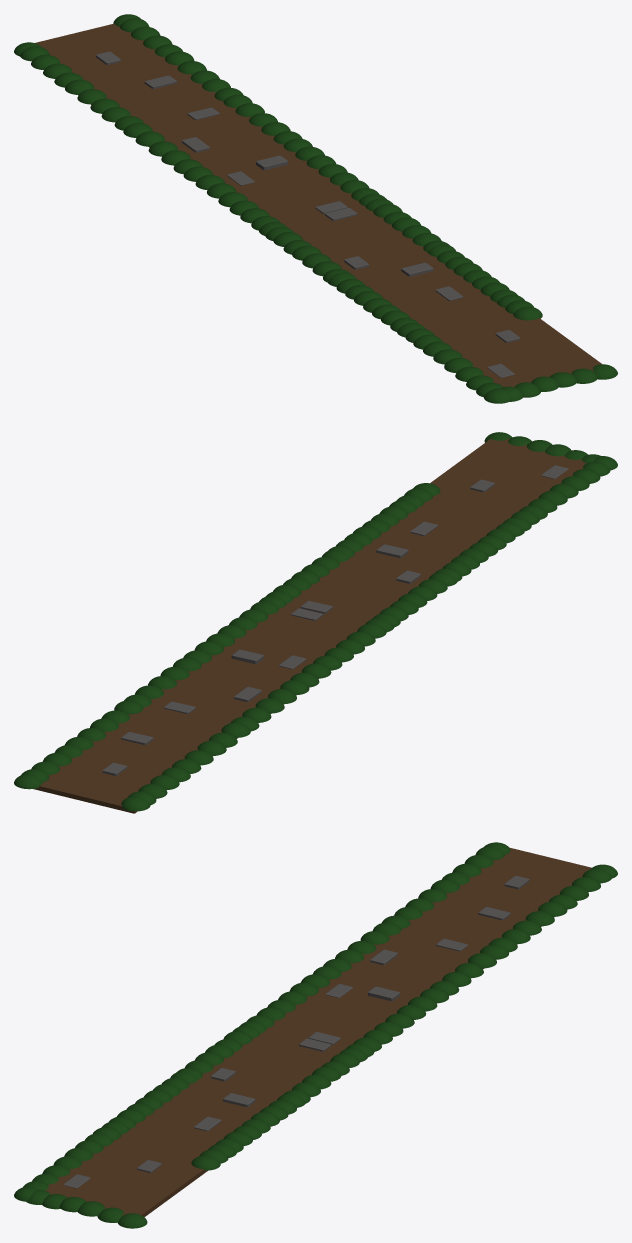
The model's file is Path3.fbx.
3 views of the same model, one above another, from view 1: azimuth 30°, elevation 25°; view 2: azimuth 150°, elevation 25°; view 3: azimuth 330°, elevation 25° (orthographic).
Visible parts, largest first — view 1: Cube; view 2: Cube; view 3: Cube.
Boxes of the visible parts, bbox=[...] form: Cube: bbox=[35, 23, 601, 387]; Cube: bbox=[33, 438, 586, 813]; Cube: bbox=[45, 848, 591, 1216].
Size of the model in its own units: 676 by 54.74 by 4392.
